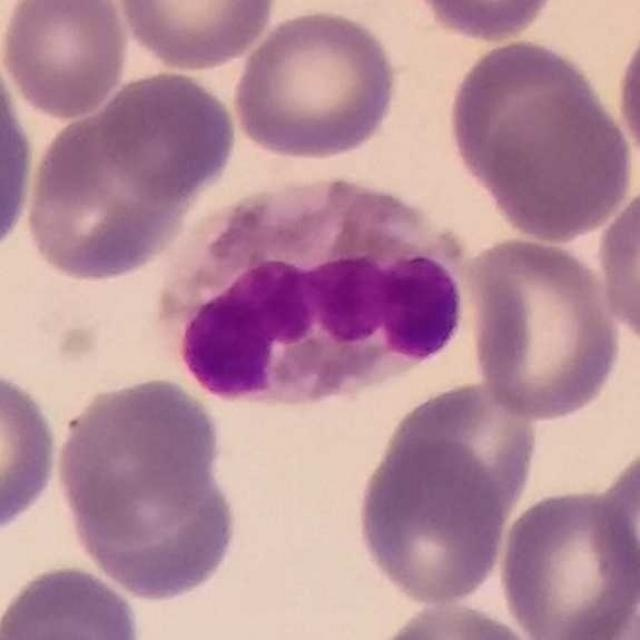eosino: (161, 172, 467, 402)
